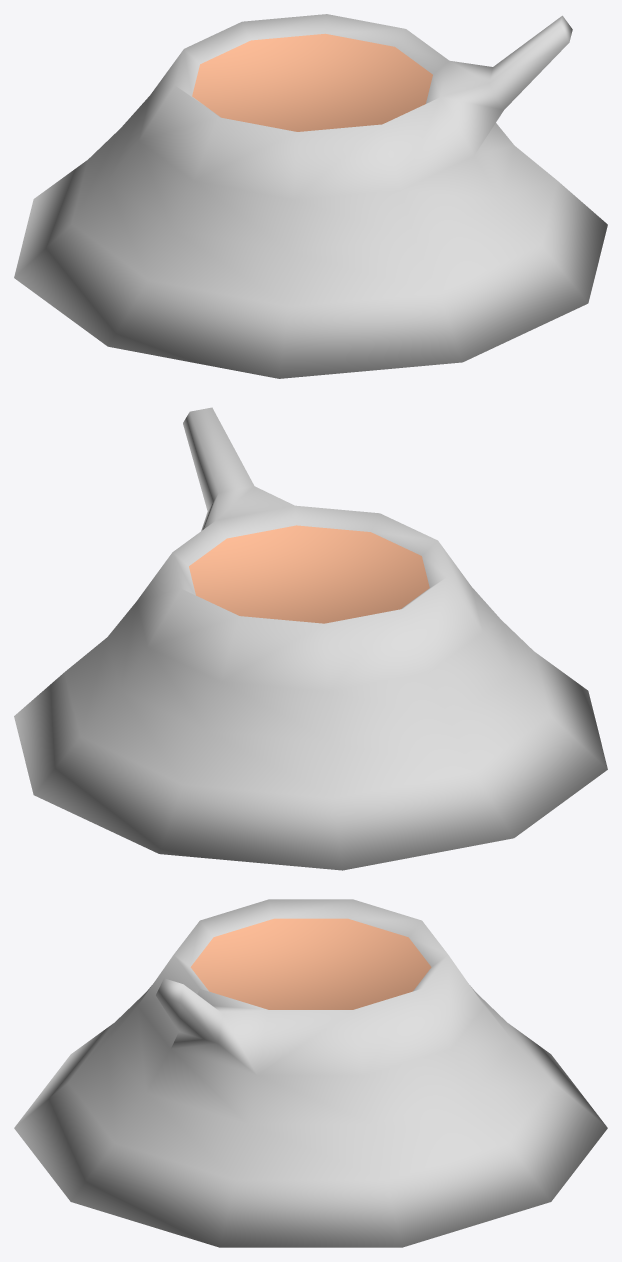
The model's file is Stump.fbx.
3 renders of one model, top to bottom at view 1: azimuth 30°, elevation 25°; view 2: azimuth 150°, elevation 25°; view 3: azimuth 270°, elevation 25°, orthographic. The views are drawn at different scales.
Parts seen in each view (by area): view 1: Stump; view 2: Stump; view 3: Stump.
Part boxes in pixels (left/top/right/bottom): Stump: left=14, top=14, right=607, bottom=378; Stump: left=14, top=407, right=607, bottom=870; Stump: left=14, top=899, right=607, bottom=1247.
Bounding box in the file's own units: 326 × 148 × 343.
